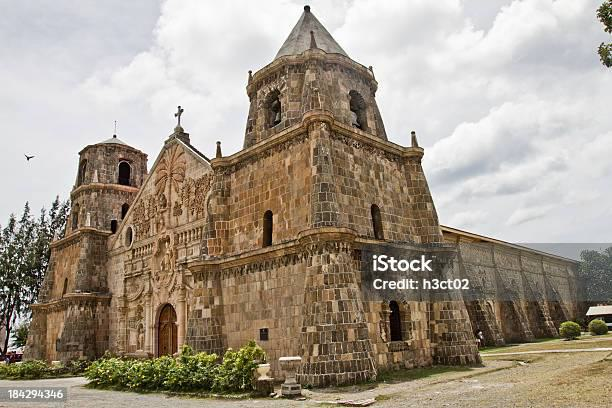Miagao Church: (22, 6, 459, 381)
